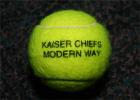tennis ball: (26, 9, 113, 92)
